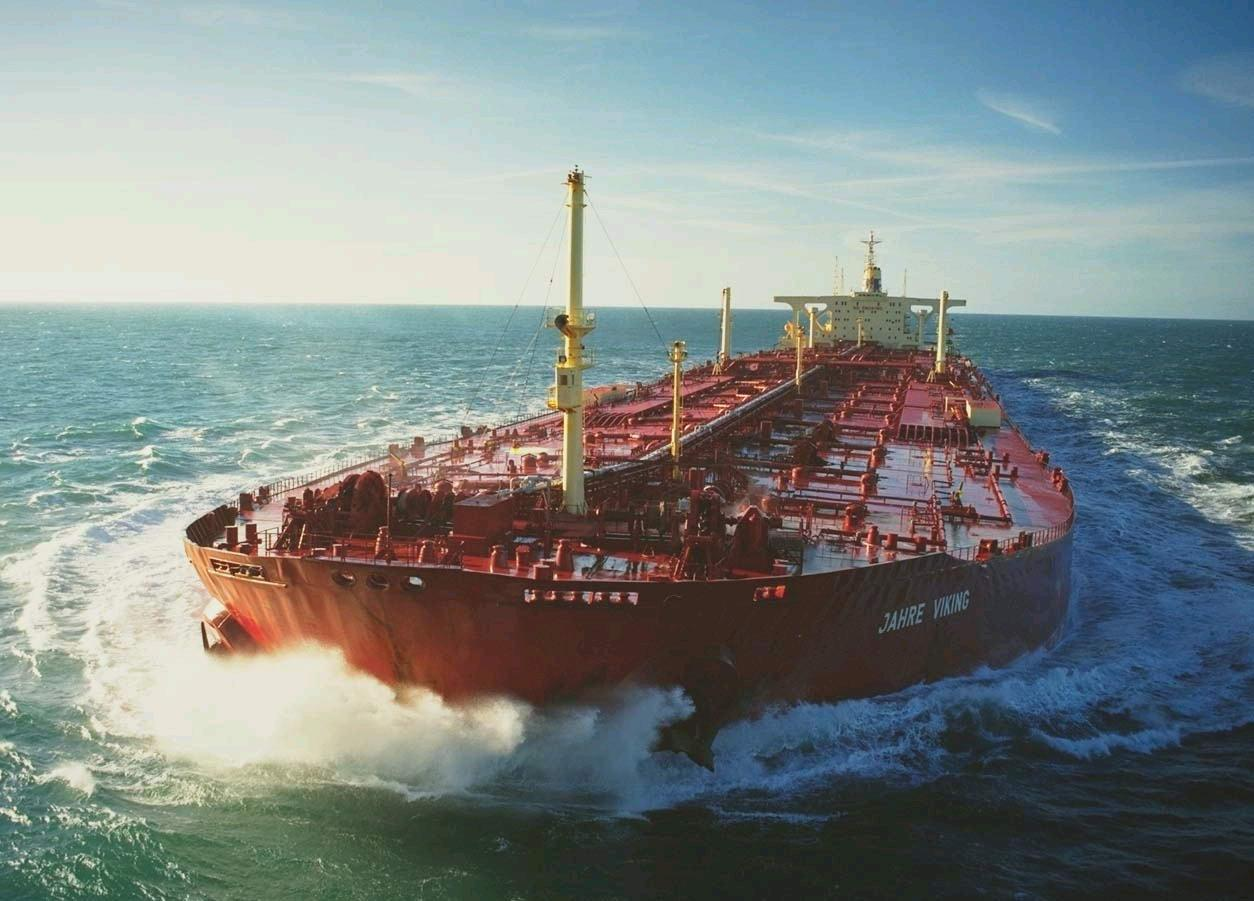Cargoship: (177, 159, 1078, 735)
